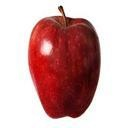apple: (28, 12, 101, 120)
